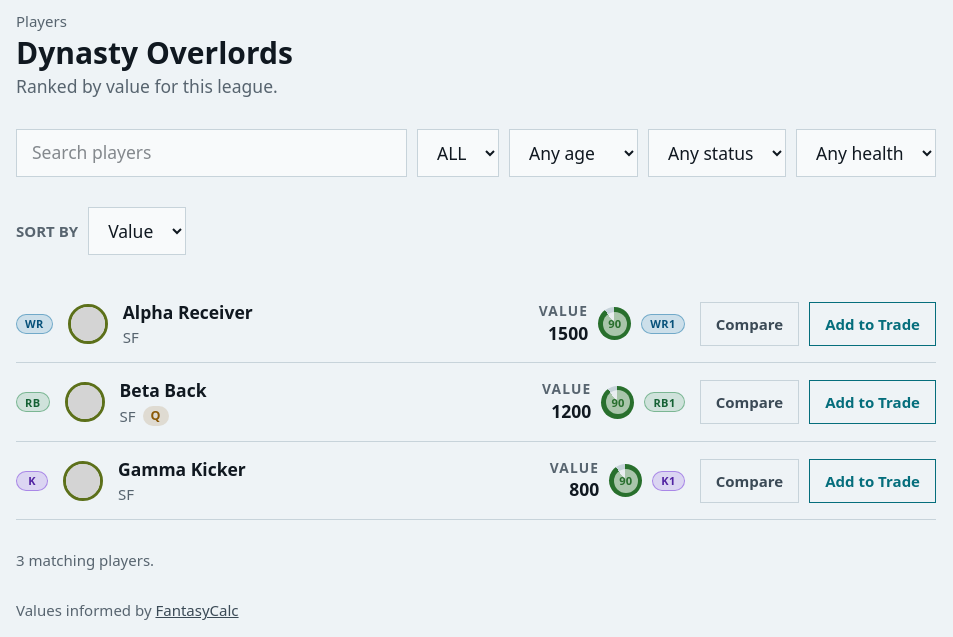
Test case: PlayersContent › IDP leagues › keeps defenders off the offensive board and shows them, valued and caveated, under a DL/LB/DB chip
Expected: the text "Edge Rusher" is not shown
Select "DL" in the 1st dropdown. click: coordinates (458, 153)
box: [417, 129, 499, 177]
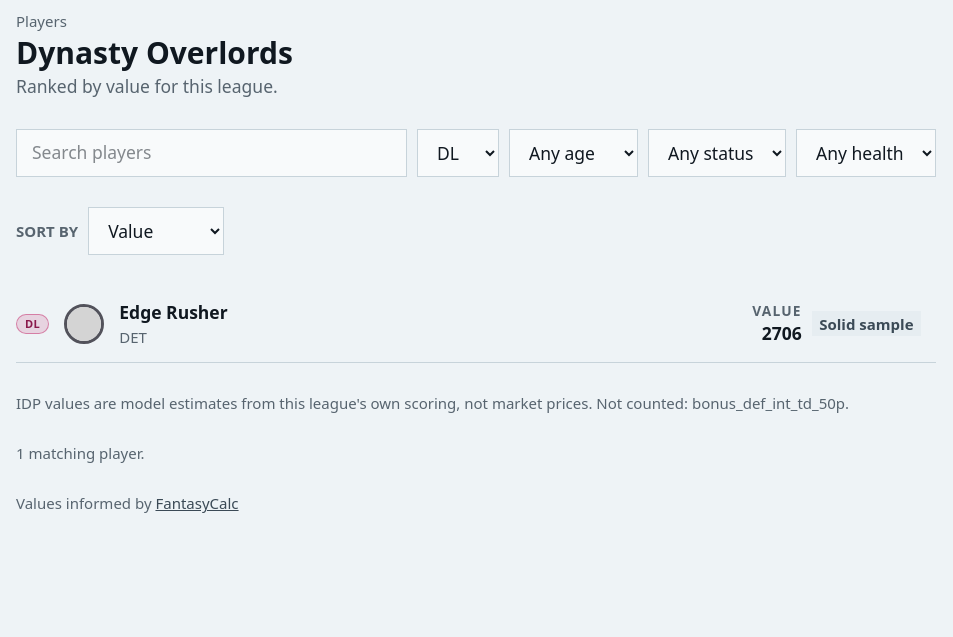
Expected: the text "Edge Rusher" is shown, [119, 300, 228, 325]
Expected: the button "Alpha Receiver" is gone
Expected: the text "Solid sample" is shown, [812, 311, 921, 336]
